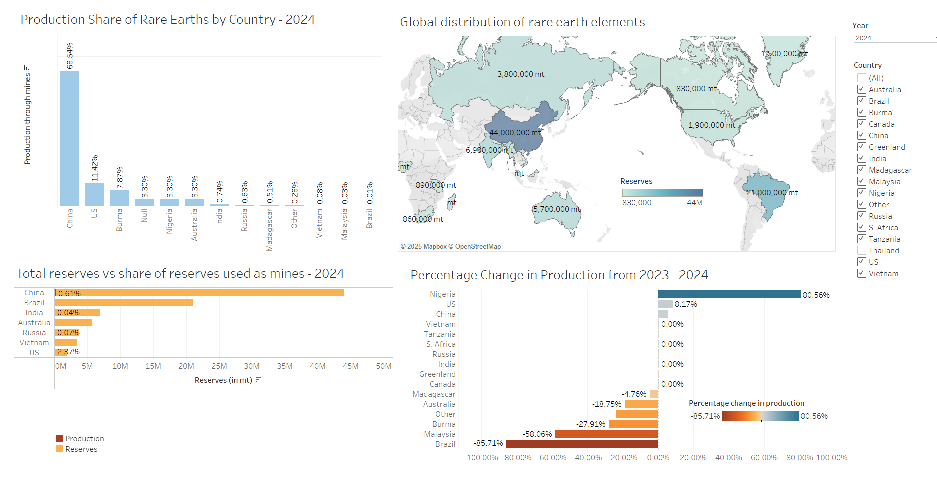

Layout of this report page (visuals, bound fields, positions):
{"tool":"tableau","page":{"name":"Dashboard 1","canvas":[1000,1000],"units":"permille","ordinal":0},"visuals":[{"type":"worksheet","title":"Sheet 5","mark":"Automatic","rows":["Calculation_1056375590069190658"],"cols":["Calculation_410953468789452805"],"box":[23.5,21.2,378.4,498.1]},{"type":"worksheet","title":"Sheet 9","mark":"Multipolygon","box":[418.8,26.2,456.2,485.6]},{"type":"parameter","param":"[Parameters].[Parameter 1]","box":[892,44.9,96.6,59.9]},{"type":"filter","title":"Sheet 8","param":"[federated.0erk0we0vgptx8113ewaz0drusm8].[none:Country:nk]","box":[893.8,124.8,101.4,561.8]},{"type":"legend","title":"Sheet 9","param":"[federated.0erk0we0vgptx8113ewaz0drusm8].[sum:reserves:qk]","box":[650.6,358.3,88.7,109.9]},{"type":"worksheet","title":"Sheet 2","mark":"Automatic","rows":["Calculation_410953468789452805"],"cols":["Calculation_1056375590042804224"],"box":[429.7,535.6,458.7,450.7]},{"type":"legend","title":"Sheet 2","param":"[federated.0erk0we0vgptx8113ewaz0drusm8].[sum:Calculation_1056375590042804224:qk","box":[721.8,805.2,147.2,109.9]},{"type":"legend","title":"Sheet 8","param":"[federated.0erk0we0vgptx8113ewaz0drusm8].[:Measure Names]","box":[61,855.2,85.7,92.4]}]}

Visuals, with their boxes on the dashboard's canvas, which has no fixed pixel size, in thousandths of its width and height (x1, y1, x2, y2). These are canvas units, not pixel positions in the 937x477 screenshot, which may show the page scaled, cropped or inside an application window:
"Sheet 5" worksheet: crop(24, 21, 402, 519)
"Sheet 9" worksheet (Multipolygon marks): crop(419, 26, 875, 512)
parameter: crop(892, 45, 989, 105)
"Sheet 8" filter: crop(894, 125, 995, 687)
"Sheet 9" legend: crop(651, 358, 739, 468)
"Sheet 2" worksheet: crop(430, 536, 888, 986)
"Sheet 2" legend: crop(722, 805, 869, 915)
"Sheet 8" legend: crop(61, 855, 147, 948)
